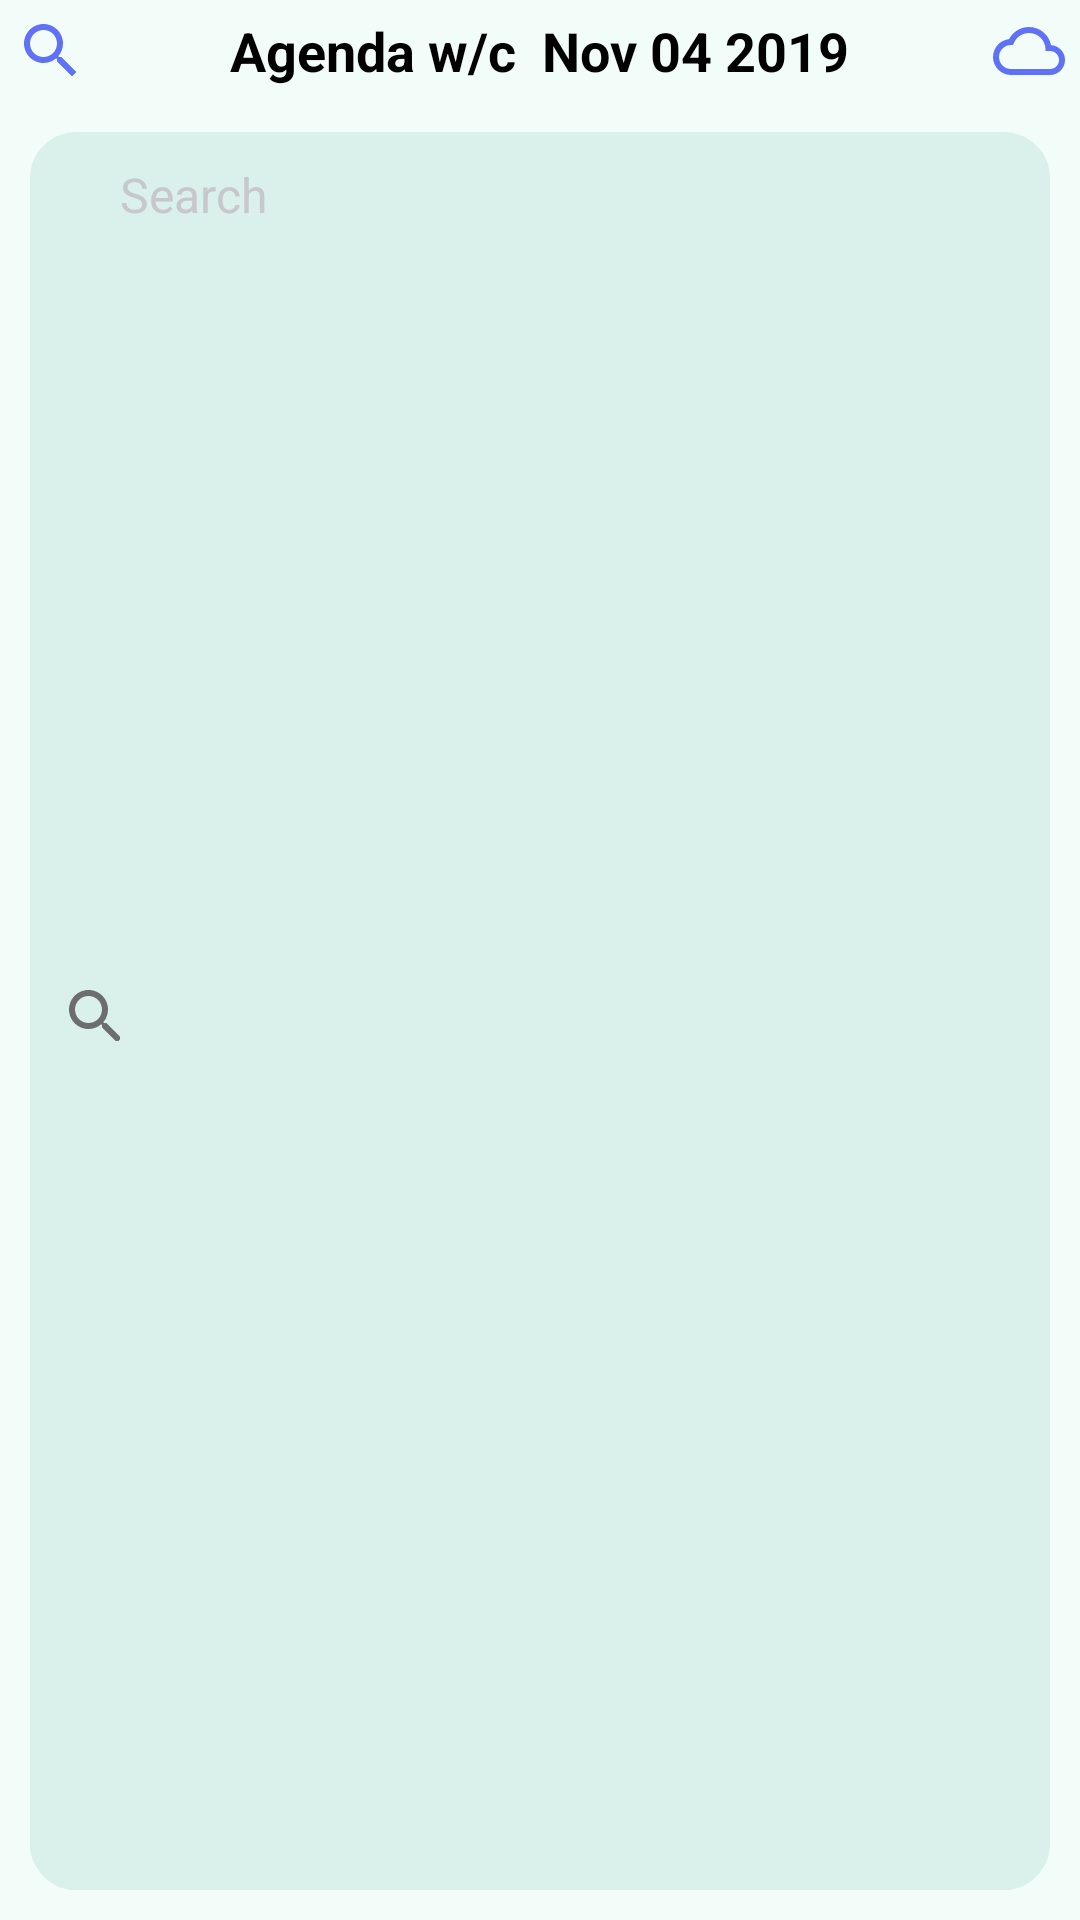

Icons on this 1080×1920 Android screen, each with its box as (x1, y1, x2, y2):
cloud: (993, 27, 1065, 75)
